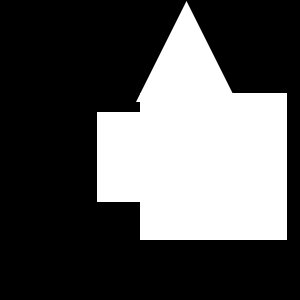circle: (140, 93, 287, 240), (97, 112, 187, 202)
triangle: (136, 1, 237, 102)
